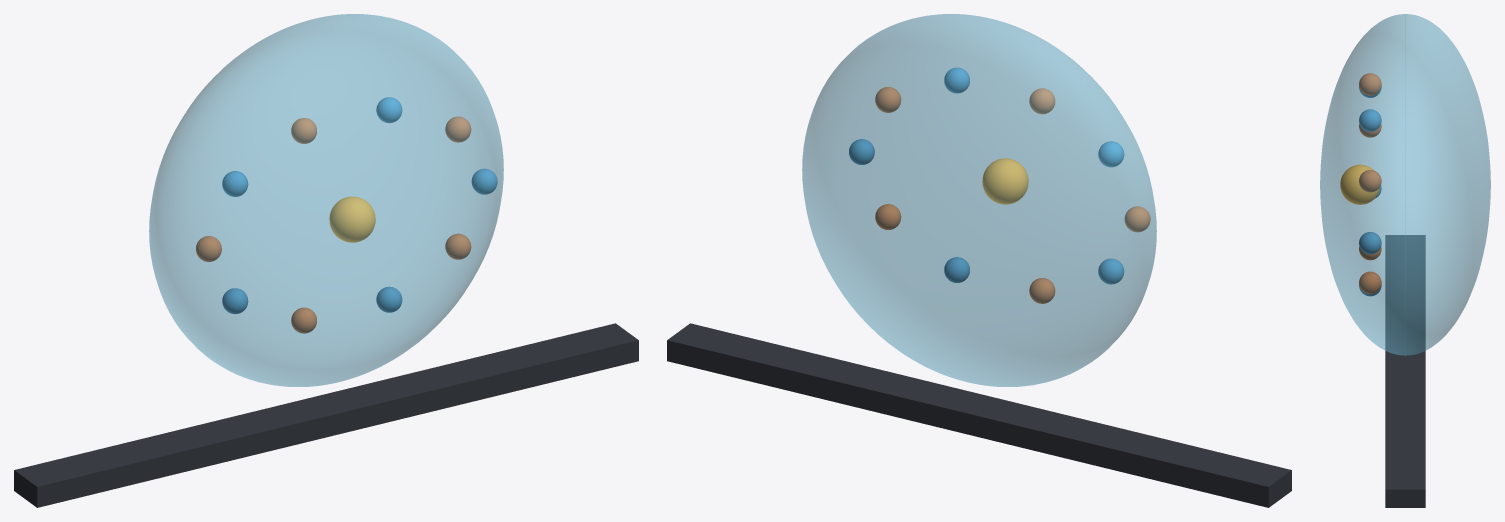
File: space-cosmology-cmb.glb
3 views of the same model, side by side, from view 1: azimuth 30°, elevation 25°; view 2: azimuth 150°, elevation 25°; view 3: azimuth 270°, elevation 25° (orthographic). The views are drawn at different scales.
Visible parts, largest first — view 1: all-sky-microwave-glow-shell, cosmology-bench, ancient-light-center; view 2: all-sky-microwave-glow-shell, cosmology-bench, ancient-light-center; view 3: all-sky-microwave-glow-shell, cosmology-bench, ancient-light-center, tiny-temperature-variation-0, tiny-temperature-variation-1, tiny-temperature-variation-2, tiny-temperature-variation-3, tiny-temperature-variation-9.
Boxes of the visible parts, x1=… form: all-sky-microwave-glow-shell: x1=149, y1=14, x2=503, y2=386; cosmology-bench: x1=14, y1=323, x2=638, y2=507; ancient-light-center: x1=329, y1=196, x2=375, y2=242; all-sky-microwave-glow-shell: x1=802, y1=14, x2=1156, y2=386; cosmology-bench: x1=667, y1=323, x2=1291, y2=507; ancient-light-center: x1=982, y1=158, x2=1028, y2=204; all-sky-microwave-glow-shell: x1=1320, y1=14, x2=1490, y2=355; cosmology-bench: x1=1385, y1=235, x2=1425, y2=507; ancient-light-center: x1=1340, y1=164, x2=1379, y2=204; tiny-temperature-variation-0: x1=1359, y1=232, x2=1381, y2=254; tiny-temperature-variation-1: x1=1359, y1=170, x2=1381, y2=192; tiny-temperature-variation-2: x1=1359, y1=109, x2=1381, y2=131; tiny-temperature-variation-3: x1=1359, y1=73, x2=1381, y2=95; tiny-temperature-variation-9: x1=1359, y1=271, x2=1381, y2=293.
Size of what is drawn, in the model's own units: 2.4 by 1.54 by 0.68.
